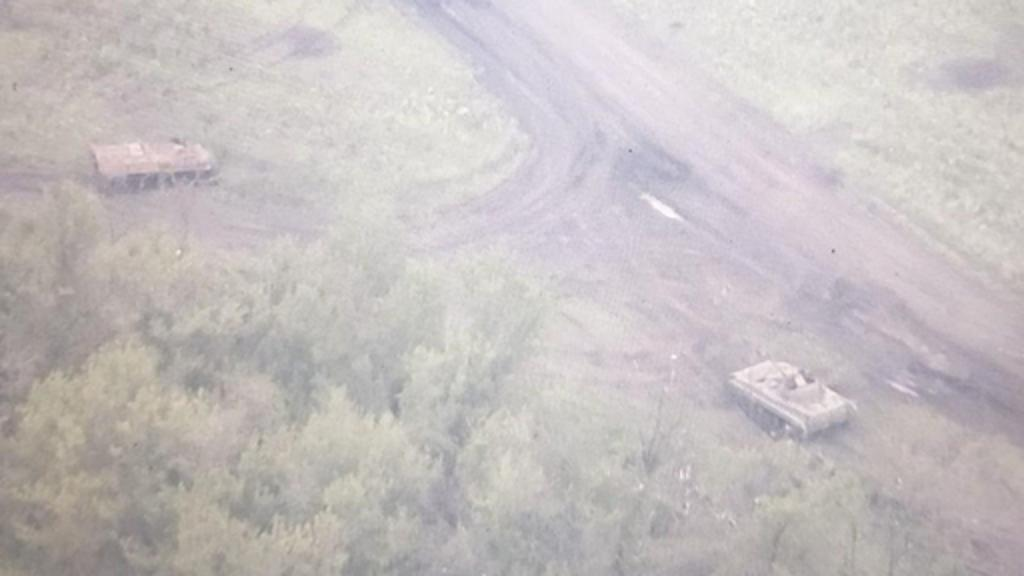APC-IFV: (718, 348, 858, 444), (86, 128, 226, 192)
